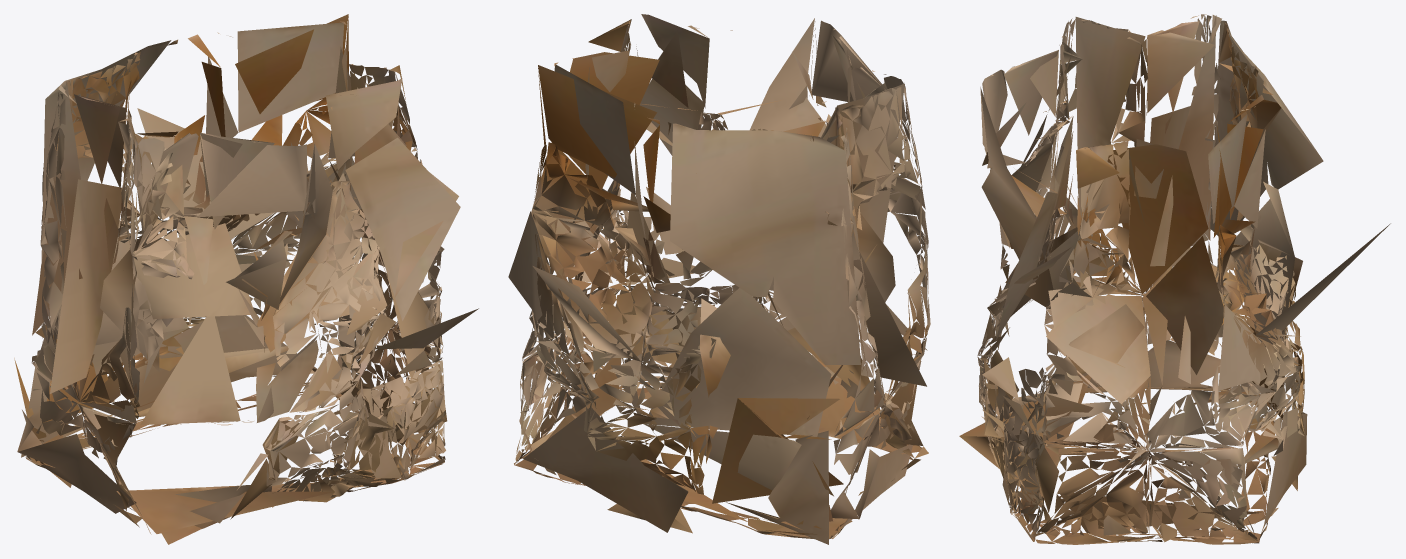
File: bags_lod2.glb
3 renders of one model, left to right at view 1: azimuth 30°, elevation 25°; view 2: azimuth 150°, elevation 25°; view 3: azimuth 270°, elevation 25°, orthographic.
Parts seen in each view (by area): view 1: node_0; view 2: node_0; view 3: node_0.
Boxes of the visible parts, x1,y1,x2,y2 form: node_0: (14,14,478,544); node_0: (508,14,930,544); node_0: (959,14,1390,544).
Size of the model in its own units: 1.02 by 1.04 by 1.02.
Materials: 1 (1 with a texture image).
